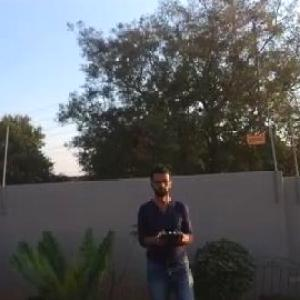follow: (132, 160, 202, 299)
